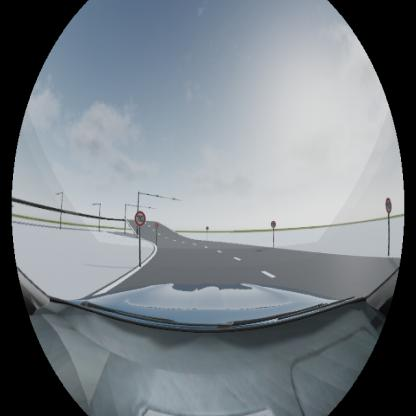Speed Limit 110: (135, 211, 145, 225)
